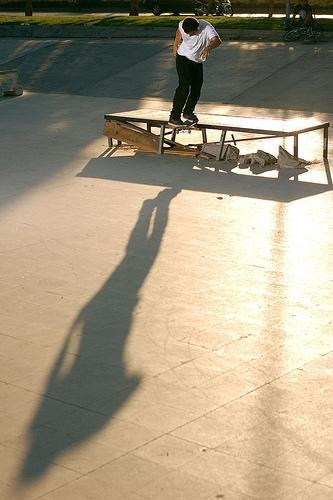bicycle: (284, 7, 324, 43)
